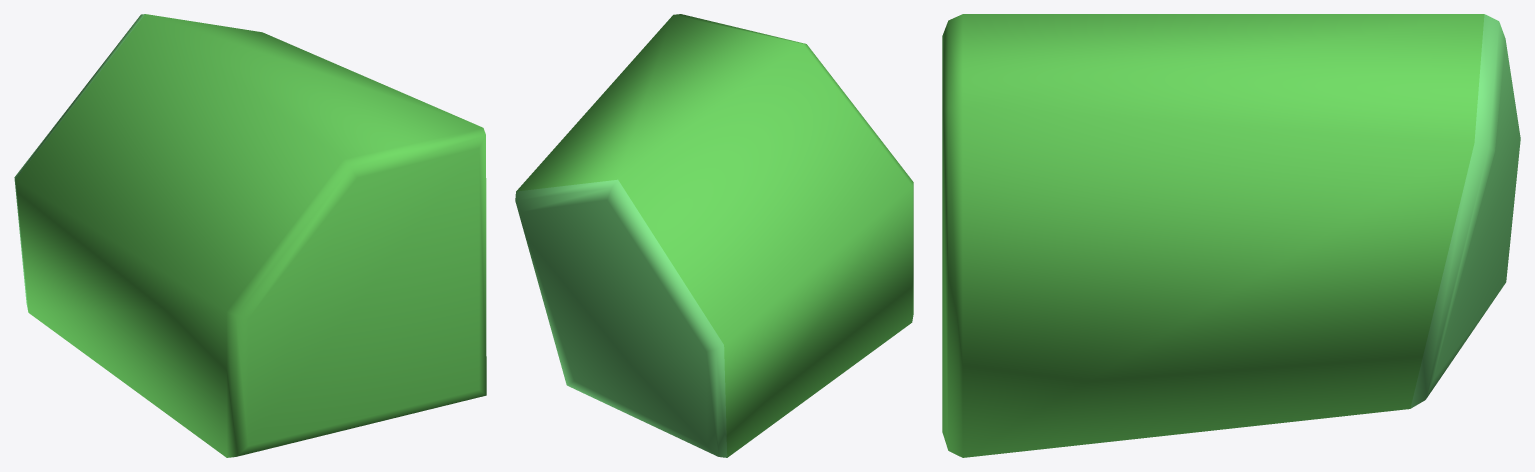
The model's file is stone2.fbx.
3 views of the same model, side by side, from view 1: azimuth 30°, elevation 25°; view 2: azimuth 150°, elevation 25°; view 3: azimuth 270°, elevation 25° (orthographic). The views are drawn at different scales.
Parts seen in each view (by area): view 1: Cube.019; view 2: Cube.019; view 3: Cube.019.
Boxes of the visible parts, box(x1,y1,x2,y2) form: Cube.019: box(14, 14, 486, 457); Cube.019: box(515, 14, 913, 457); Cube.019: box(942, 14, 1520, 457).
Bounding box in the file's own units: 0.4882 × 0.4792 × 0.7081.
